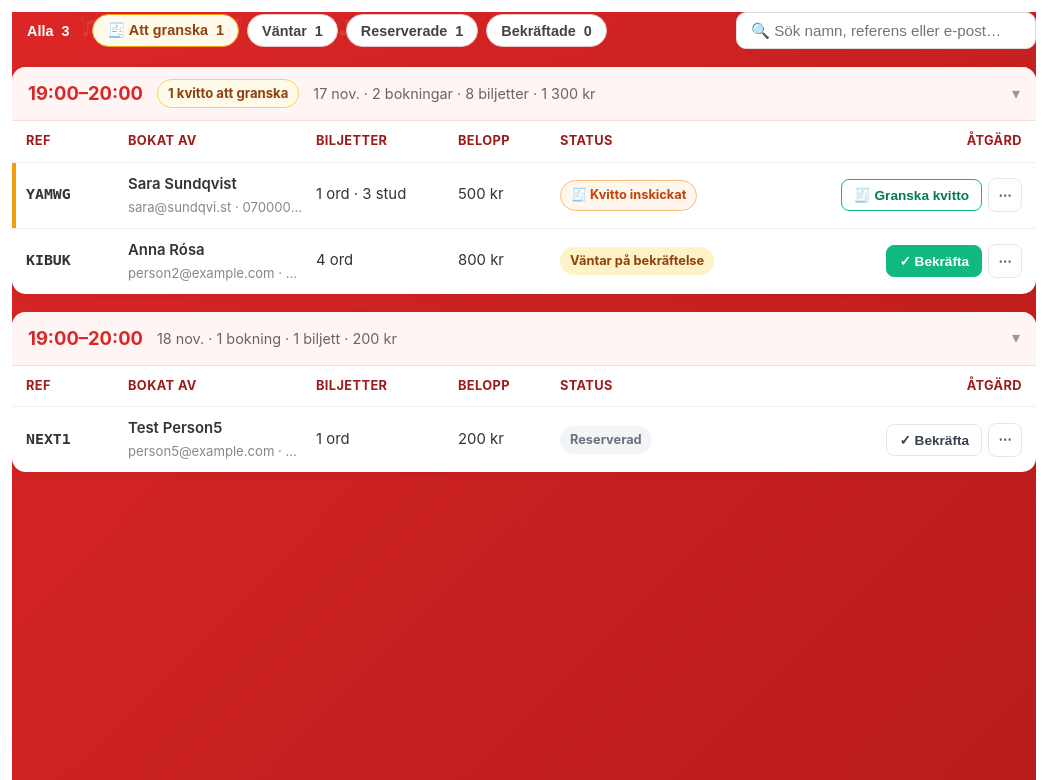
Scenario: AdminBookingList › groups by show date and time, with a summary and a receipt badge
The width and height of the screenshot is (1048, 780).
Expected: the button "19:00–20:00 18 nov. · 1 bokning · 1 biljett · 200 kr ▾" does not show "att granska", [12,312,1036,366]
Step 1. Click the button that starts with "kvitto" → coordinates (524, 94), box [12,67,1036,121]
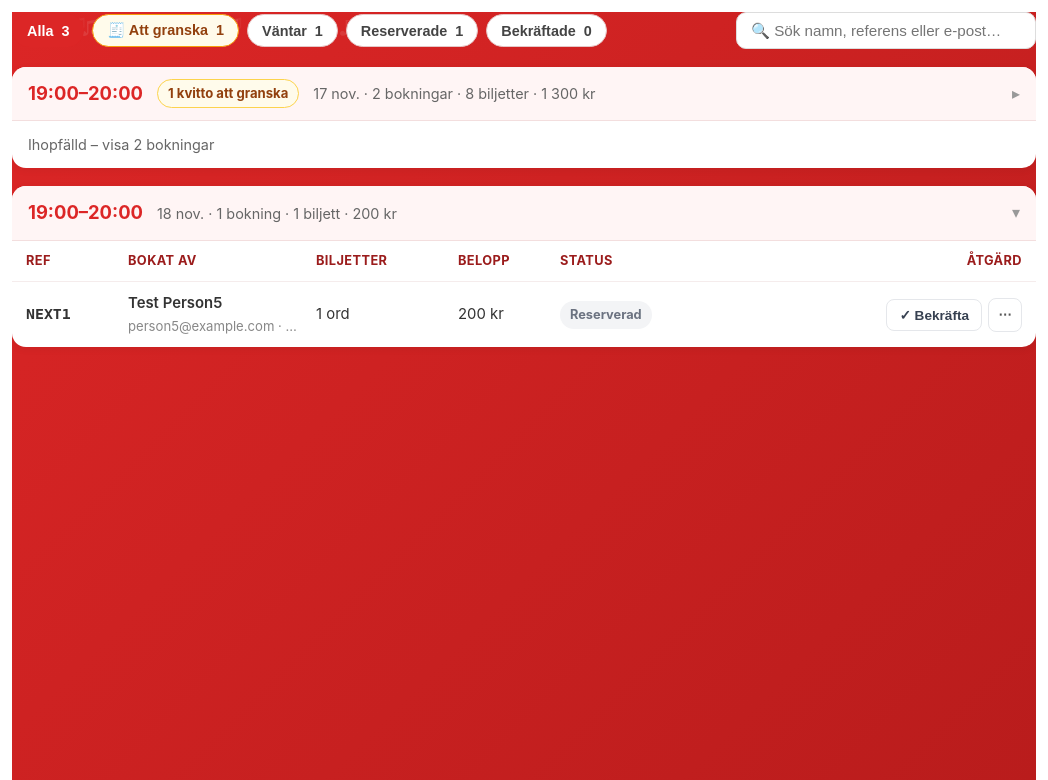
Result: the text "Ihopfälld – visa 2 bokningar" is shown at [28,136,214,153]
